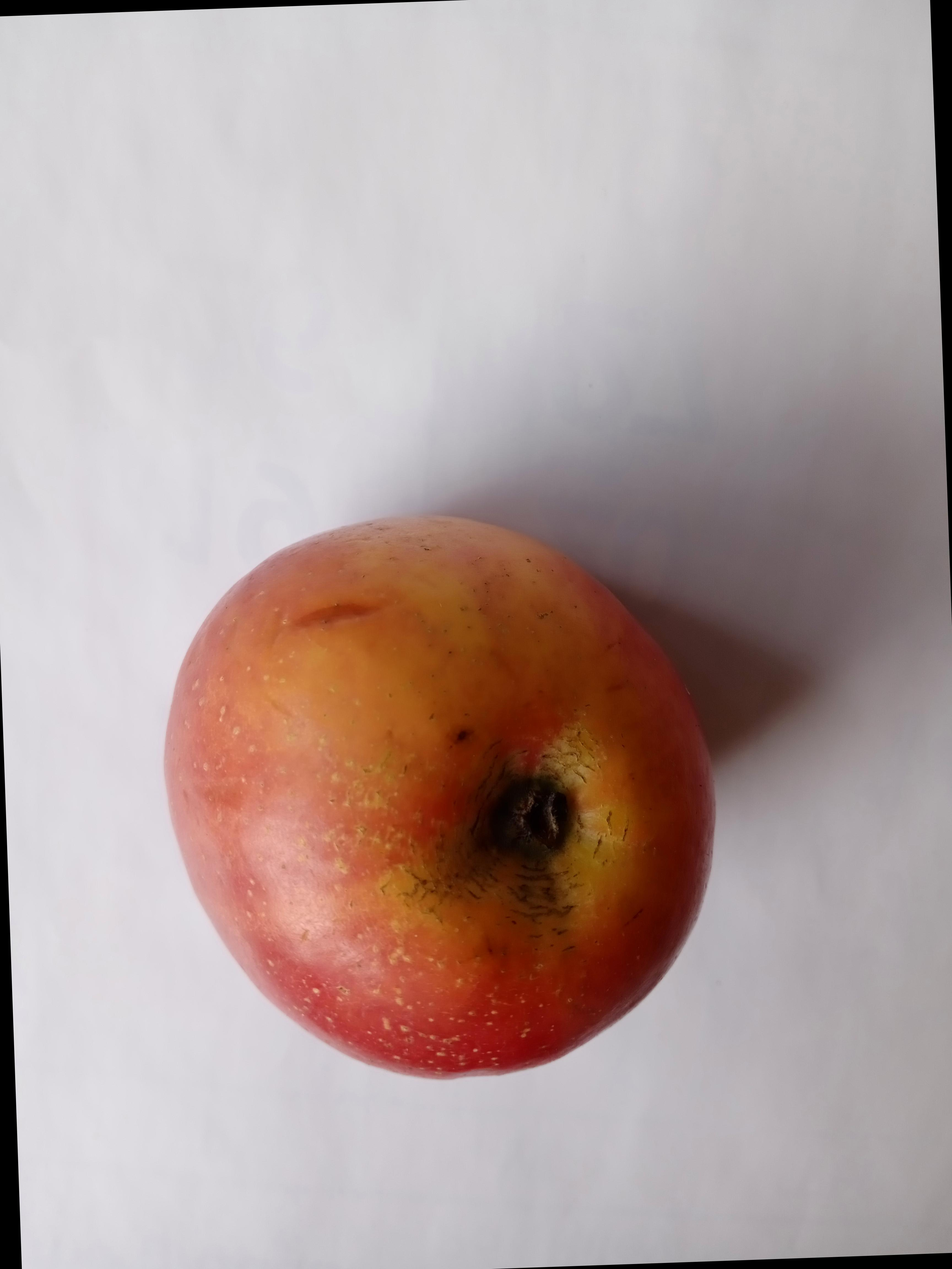Apple Ripe: (104, 508, 716, 1139)
